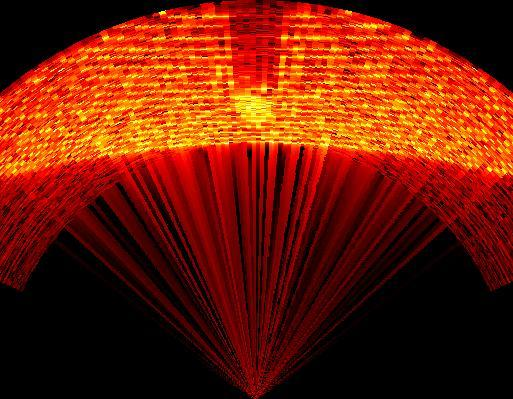box_crate: (222, 4, 283, 88)
